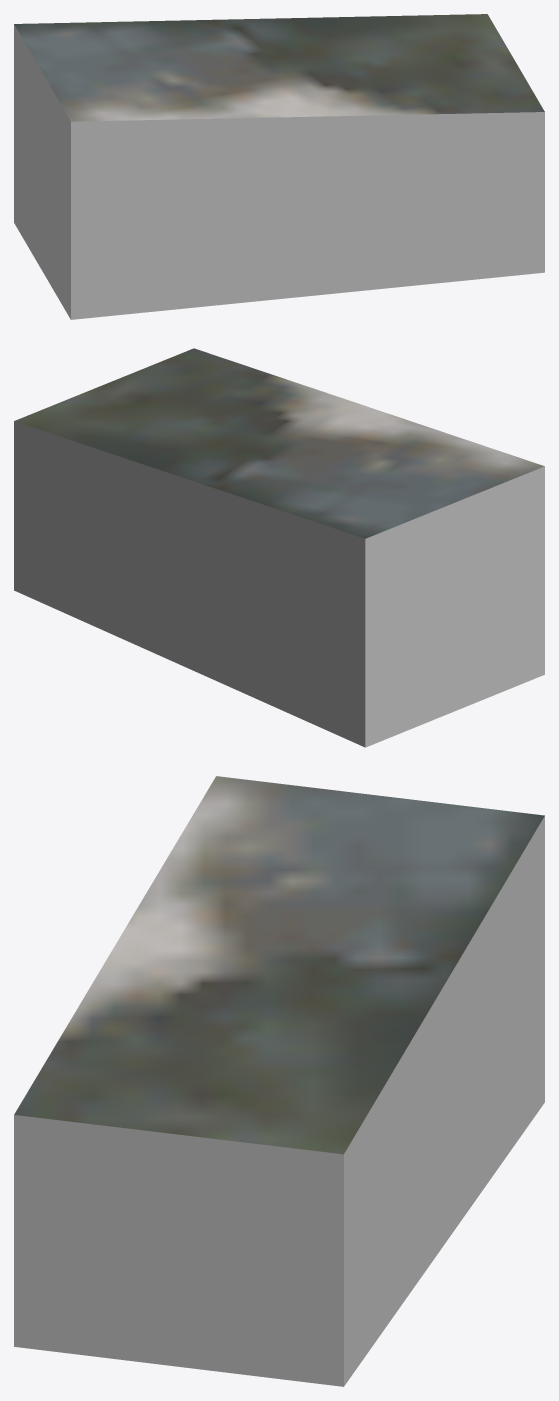
File: DEBW_0010007Txji.gltf
3 renders of one model, top to bottom at view 1: azimuth 30°, elevation 25°; view 2: azimuth 150°, elevation 25°; view 3: azimuth 270°, elevation 25°, orthographic. The views are drawn at different scales.
Visible parts, largest first — view 1: Z_UP; view 2: Z_UP; view 3: Z_UP.
Part boxes in pixels (x1,y1,x2,y2): Z_UP: [14, 14, 544, 319]; Z_UP: [14, 348, 544, 747]; Z_UP: [14, 776, 544, 1386].
Bounding box in the file's own units: 6.8 × 2.8 × 4.7.
Materials: 2 (1 with a texture image).
